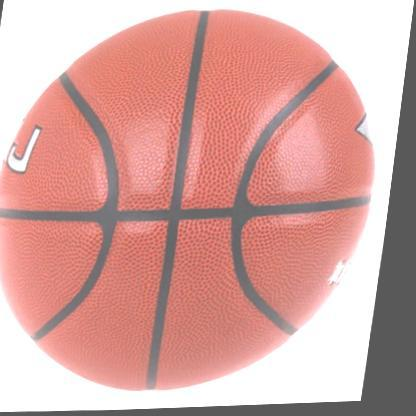basketball: (0, 0, 401, 402)
